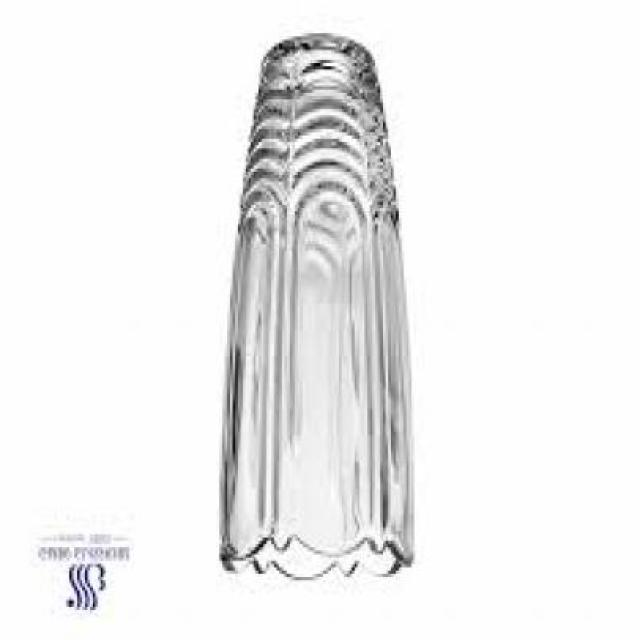kaca: (218, 36, 408, 584)
